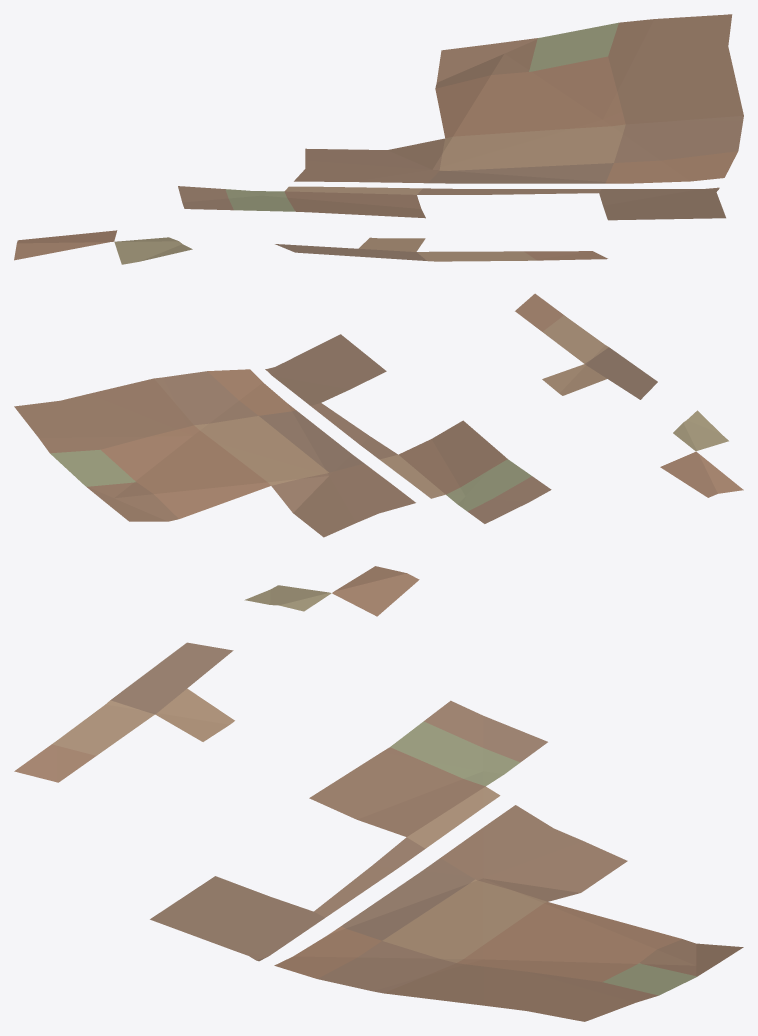
The model's file is farm_-2_-4_soil.glb.
3 views of the same model, one above another, from view 1: azimuth 30°, elevation 25°; view 2: azimuth 150°, elevation 25°; view 3: azimuth 270°, elevation 25° (orthographic). The views are drawn at different scales.
Visible parts, largest first — view 1: geometry_0; view 2: geometry_0; view 3: geometry_0.
Boxes of the visible parts, left/top/right/bottom form: geometry_0: left=14, top=14, right=743, bottom=264; geometry_0: left=14, top=293, right=743, bottom=537; geometry_0: left=14, top=566, right=743, bottom=1021.
Size of the model in its own units: 383 by 44.83 by 274.
